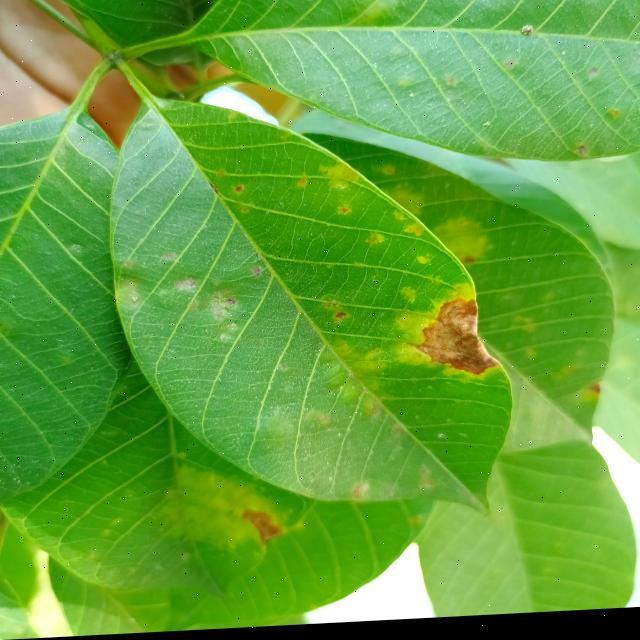Leaf-Blight: (416, 301, 500, 384), (242, 511, 284, 550)
